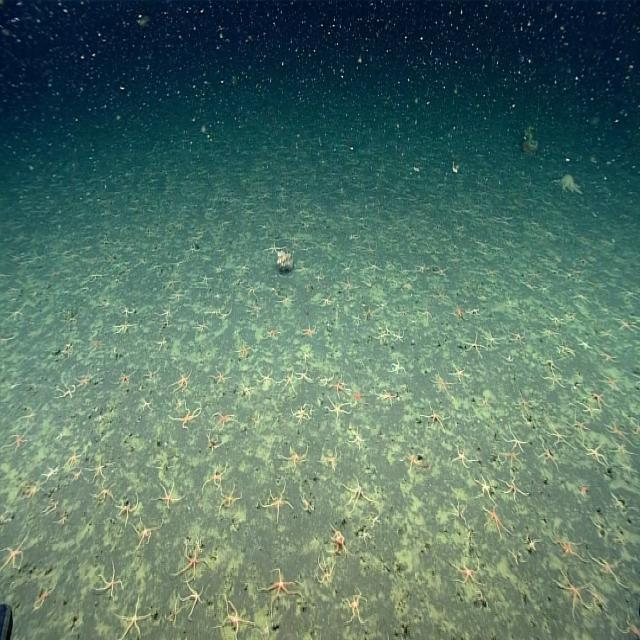brittle-stars: (254, 554, 306, 622), (82, 552, 133, 604), (542, 570, 590, 623), (256, 472, 296, 532), (114, 586, 158, 640), (0, 517, 35, 583), (209, 592, 257, 640), (165, 535, 211, 584), (546, 522, 592, 570), (27, 570, 62, 630), (338, 582, 376, 636), (588, 543, 628, 593), (444, 544, 487, 590), (335, 464, 373, 514), (149, 469, 187, 516), (164, 395, 204, 439), (130, 514, 168, 559), (474, 501, 515, 540), (497, 462, 533, 506), (176, 577, 210, 623), (446, 432, 482, 474), (199, 459, 237, 495), (208, 399, 244, 433), (421, 398, 451, 438), (607, 604, 640, 639), (116, 485, 140, 533), (328, 519, 354, 563), (91, 478, 121, 516), (0, 424, 33, 458), (86, 447, 114, 487), (160, 591, 187, 631), (446, 490, 472, 531), (472, 471, 501, 507), (534, 436, 558, 479), (314, 447, 352, 474), (577, 437, 609, 469), (542, 418, 576, 448), (206, 356, 232, 395), (276, 444, 312, 472), (108, 314, 141, 344), (293, 487, 323, 520), (398, 449, 433, 477), (368, 382, 399, 413), (12, 402, 46, 430), (17, 472, 44, 507), (285, 401, 319, 428), (461, 290, 488, 324), (137, 352, 162, 388), (2, 300, 32, 330), (217, 484, 246, 514), (607, 486, 636, 516), (320, 396, 351, 424), (312, 551, 333, 592), (169, 367, 198, 396), (427, 368, 455, 398), (54, 306, 81, 337), (540, 367, 572, 393), (82, 331, 107, 364), (501, 427, 531, 454), (586, 579, 607, 617), (254, 364, 281, 393), (514, 386, 537, 420), (462, 326, 484, 360), (114, 364, 137, 396), (279, 363, 300, 398), (372, 313, 390, 353), (233, 332, 256, 363), (347, 421, 369, 453), (586, 518, 618, 540), (51, 378, 78, 404), (51, 507, 78, 532), (60, 443, 84, 471), (272, 284, 296, 312), (349, 383, 372, 412), (41, 453, 60, 487), (590, 348, 622, 368), (608, 438, 637, 460), (0, 496, 18, 531), (39, 494, 63, 520), (566, 414, 592, 438), (470, 588, 498, 610), (524, 531, 548, 556), (481, 326, 505, 351), (261, 322, 284, 348), (501, 544, 527, 567), (494, 446, 520, 469), (448, 358, 471, 384), (332, 371, 354, 398), (260, 238, 288, 259), (482, 258, 504, 284), (77, 365, 96, 395), (204, 428, 221, 461), (188, 317, 212, 340), (237, 279, 261, 302), (472, 391, 494, 416), (245, 412, 266, 438), (538, 348, 559, 374), (512, 276, 539, 296), (81, 268, 111, 286), (66, 464, 85, 492), (597, 373, 625, 392), (154, 304, 176, 328), (615, 458, 639, 480), (595, 322, 617, 346), (311, 292, 336, 313), (95, 289, 116, 314), (202, 303, 232, 320), (131, 394, 154, 416), (507, 322, 529, 345), (576, 479, 596, 504), (603, 423, 632, 440), (193, 268, 215, 290), (432, 280, 454, 302), (352, 525, 375, 546), (383, 357, 406, 378), (300, 318, 320, 342), (563, 290, 593, 306), (234, 380, 255, 402), (457, 276, 478, 298), (535, 322, 557, 343), (588, 388, 611, 408), (420, 301, 436, 329), (556, 337, 578, 357), (375, 292, 395, 314), (336, 274, 356, 295), (580, 401, 601, 421), (573, 333, 593, 354), (317, 370, 336, 392), (409, 256, 431, 275), (348, 306, 364, 332), (362, 269, 378, 294), (362, 254, 383, 273), (293, 365, 315, 383), (566, 308, 584, 330), (431, 260, 449, 282), (536, 276, 554, 298), (312, 266, 329, 289), (5, 372, 21, 396), (245, 300, 266, 318), (392, 325, 407, 350), (618, 315, 636, 335), (294, 259, 312, 279), (300, 342, 317, 363), (59, 341, 75, 363), (549, 308, 567, 327), (446, 304, 464, 323), (338, 258, 357, 276), (155, 333, 171, 354), (370, 499, 382, 527), (120, 300, 138, 318), (172, 390, 186, 413), (159, 274, 179, 290), (167, 291, 188, 305), (500, 352, 517, 368), (399, 279, 415, 296), (167, 352, 185, 367), (398, 300, 412, 318), (54, 427, 67, 446)
